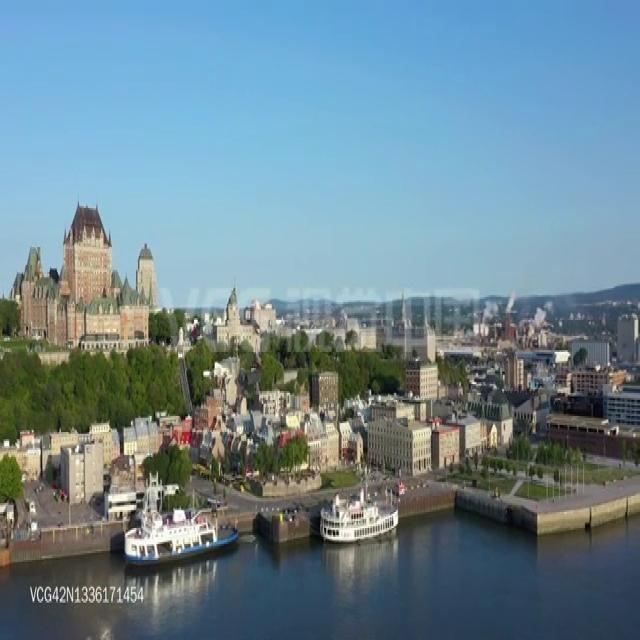passenger ship: (118, 498, 236, 562), (320, 492, 399, 545)
